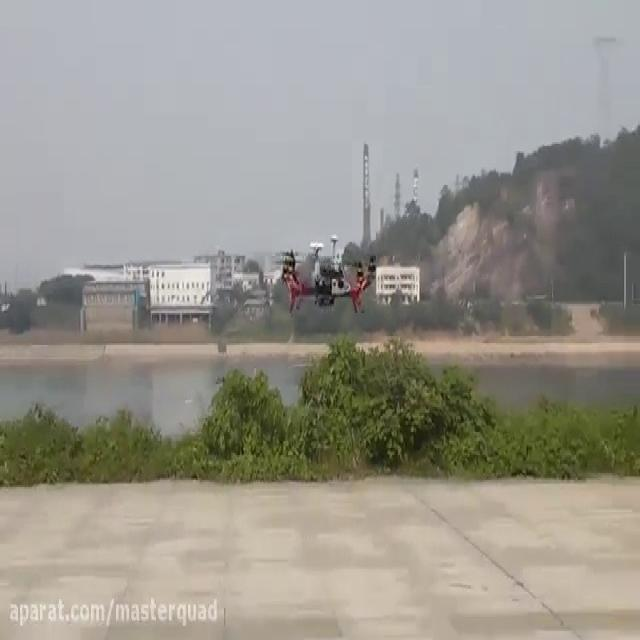drone: (274, 231, 377, 313)
